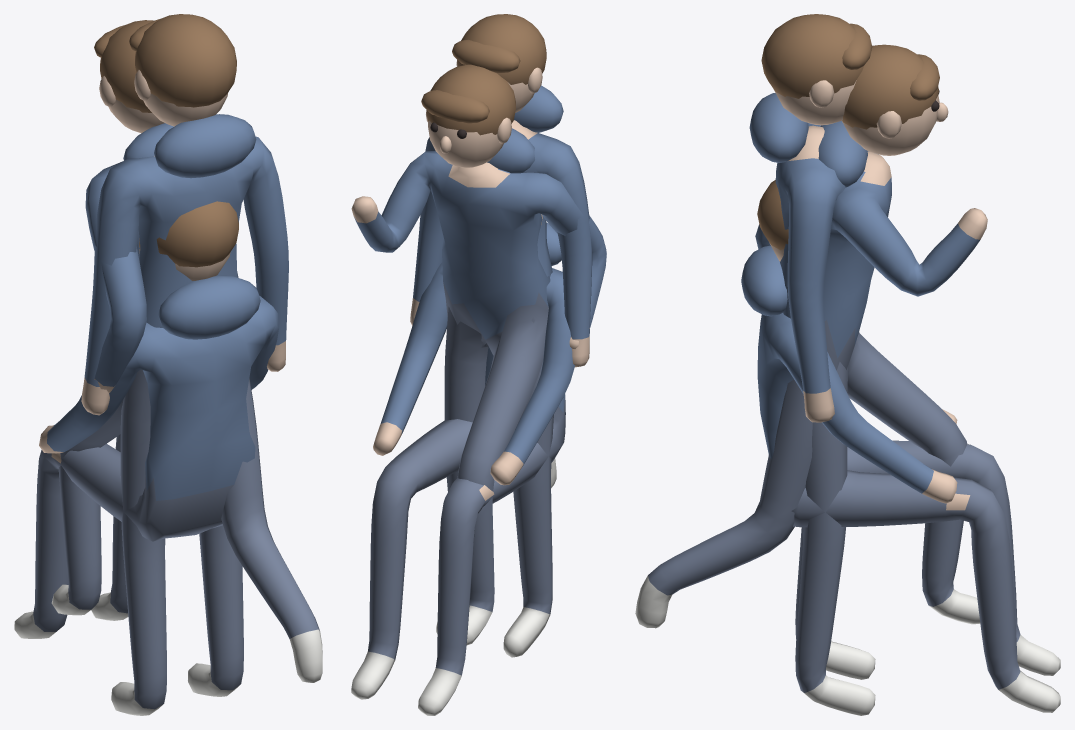
The model's file is Sam.fbx.
The picture shows the model from 3 angles, left to right: view 1: azimuth 30°, elevation 25°; view 2: azimuth 150°, elevation 25°; view 3: azimuth 270°, elevation 25°; orthographic projection. The views are drawn at different scales.
Parts seen in each view (by area): view 1: Sam_Standing, Sam_Sitting, Sam_Running; view 2: Sam_Running, Sam_Sitting, Sam_Standing; view 3: Sam_Running, Sam_Standing, Sam_Sitting.
Part boxes in pixels (bbox=[...]): Sam_Standing: bbox=[81, 14, 288, 715]; Sam_Sitting: bbox=[14, 201, 278, 638]; Sam_Running: bbox=[51, 20, 322, 682]; Sam_Running: bbox=[351, 64, 606, 645]; Sam_Sitting: bbox=[351, 214, 574, 715]; Sam_Standing: bbox=[410, 14, 592, 657]; Sam_Running: bbox=[635, 44, 987, 628]; Sam_Standing: bbox=[749, 14, 875, 715]; Sam_Sitting: bbox=[741, 180, 1060, 712].
Size of the model in its own units: 0.4869 by 1.64 by 0.9301.
